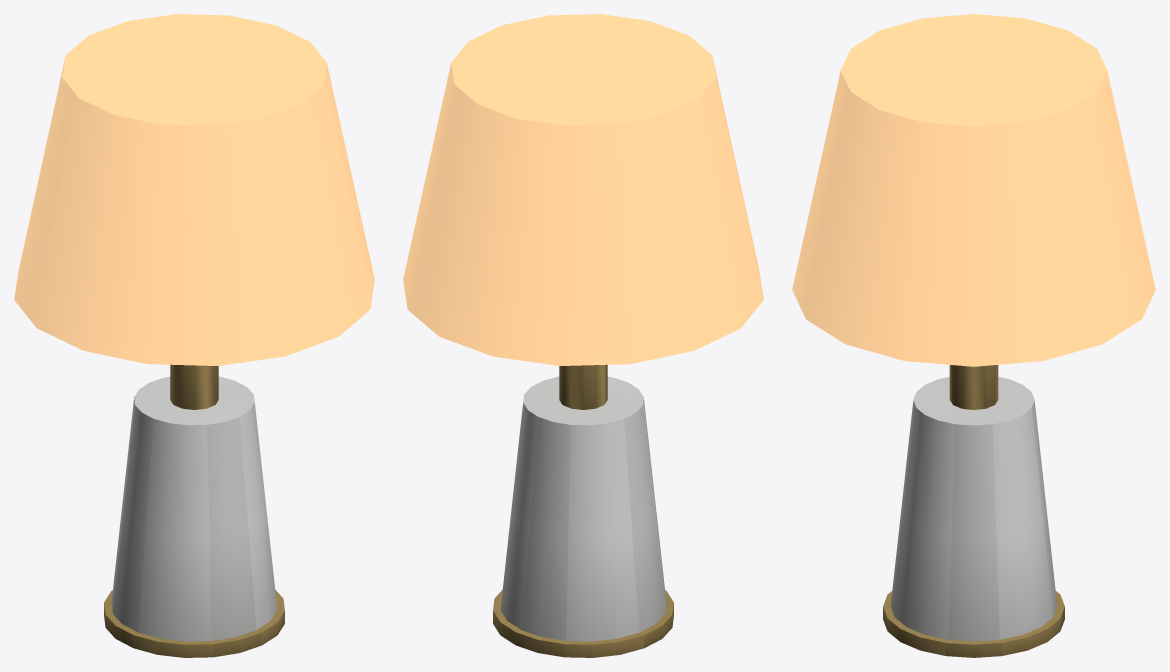
File: table_lamp.glb
3 renders of one model, left to right at view 1: azimuth 30°, elevation 25°; view 2: azimuth 150°, elevation 25°; view 3: azimuth 270°, elevation 25°, orthographic.
Visible parts, largest first — view 1: noshadow, body; view 2: noshadow, body; view 3: noshadow, body.
Boxes of the visible parts, <box> form: noshadow: <box>14,14,374,365</box>; body: <box>104,364,284,657</box>; noshadow: <box>403,14,763,365</box>; body: <box>493,364,673,657</box>; noshadow: <box>792,14,1155,366</box>; body: <box>883,365,1064,657</box>.
Size of what is drawn, in the model's own units: 0.3 by 0.5 by 0.3.
